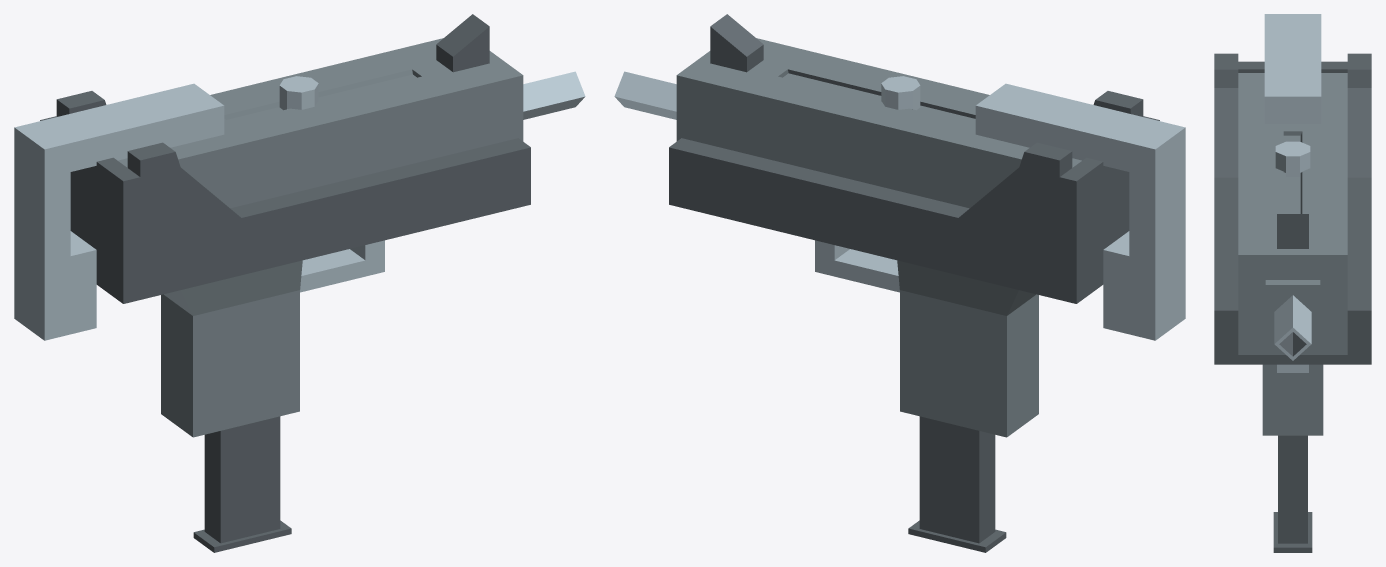
The model's file is uzi.glb.
3 views of the same model, side by side, from view 1: azimuth 30°, elevation 25°; view 2: azimuth 150°, elevation 25°; view 3: azimuth 270°, elevation 25° (orthographic). The views are drawn at different scales.
Parts seen in each view (by area): view 1: body, mag, reloader; view 2: body, mag, reloader; view 3: body, mag, reloader.
Boxes of the visible parts, <box> form: body: <box>14,14,585,437</box>; mag: <box>193,416,291,552</box>; reloader: <box>279,76,318,110</box>; body: <box>614,14,1185,437</box>; mag: <box>908,416,1006,552</box>; reloader: <box>881,76,920,110</box>; body: <box>1214,14,1371,435</box>; mag: <box>1273,435,1312,552</box>; reloader: <box>1275,141,1310,176</box>.
Bounding box in the file's own units: 0.3196 × 0.2559 × 0.0847.
